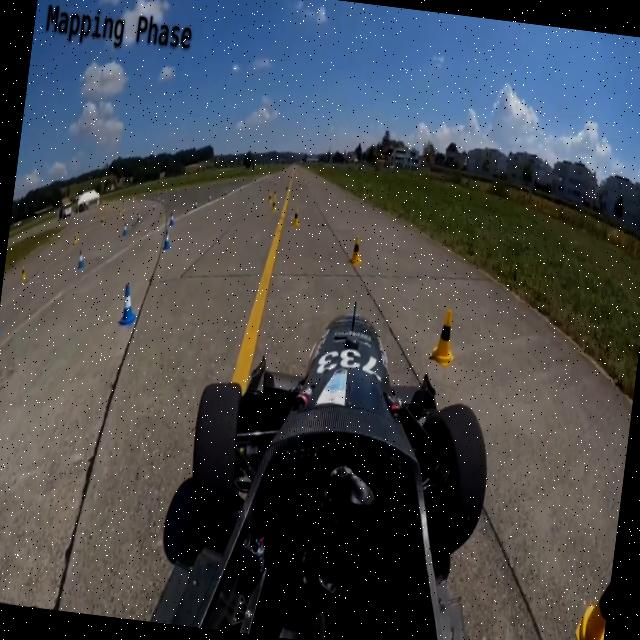blue_cone: (120, 282, 140, 327), (162, 228, 172, 251), (77, 250, 85, 270), (0, 310, 4, 341)
yellow_cone: (430, 308, 460, 368), (349, 236, 364, 265), (292, 207, 301, 227)
